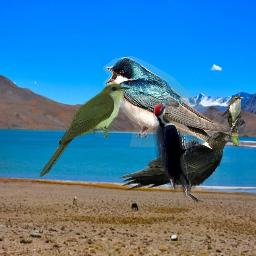Crow: (117, 130, 239, 205)
Cuckoo: (39, 83, 131, 179), (227, 94, 244, 146)
Swallow: (103, 56, 232, 147)
Woodpecker: (153, 98, 199, 197)
